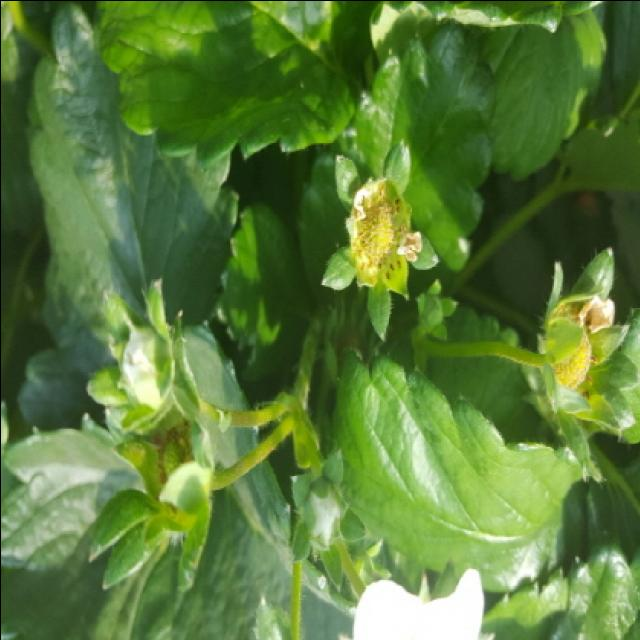Blossom Blight: (344, 175, 422, 284)
